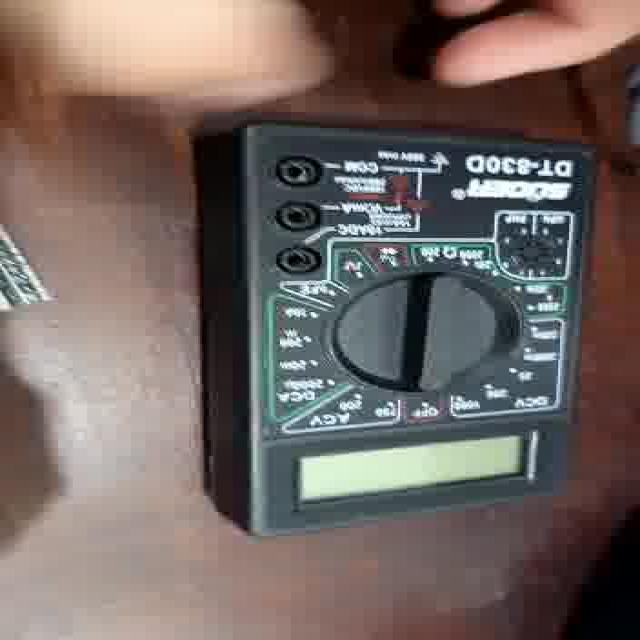multimeter: (176, 111, 569, 518)
